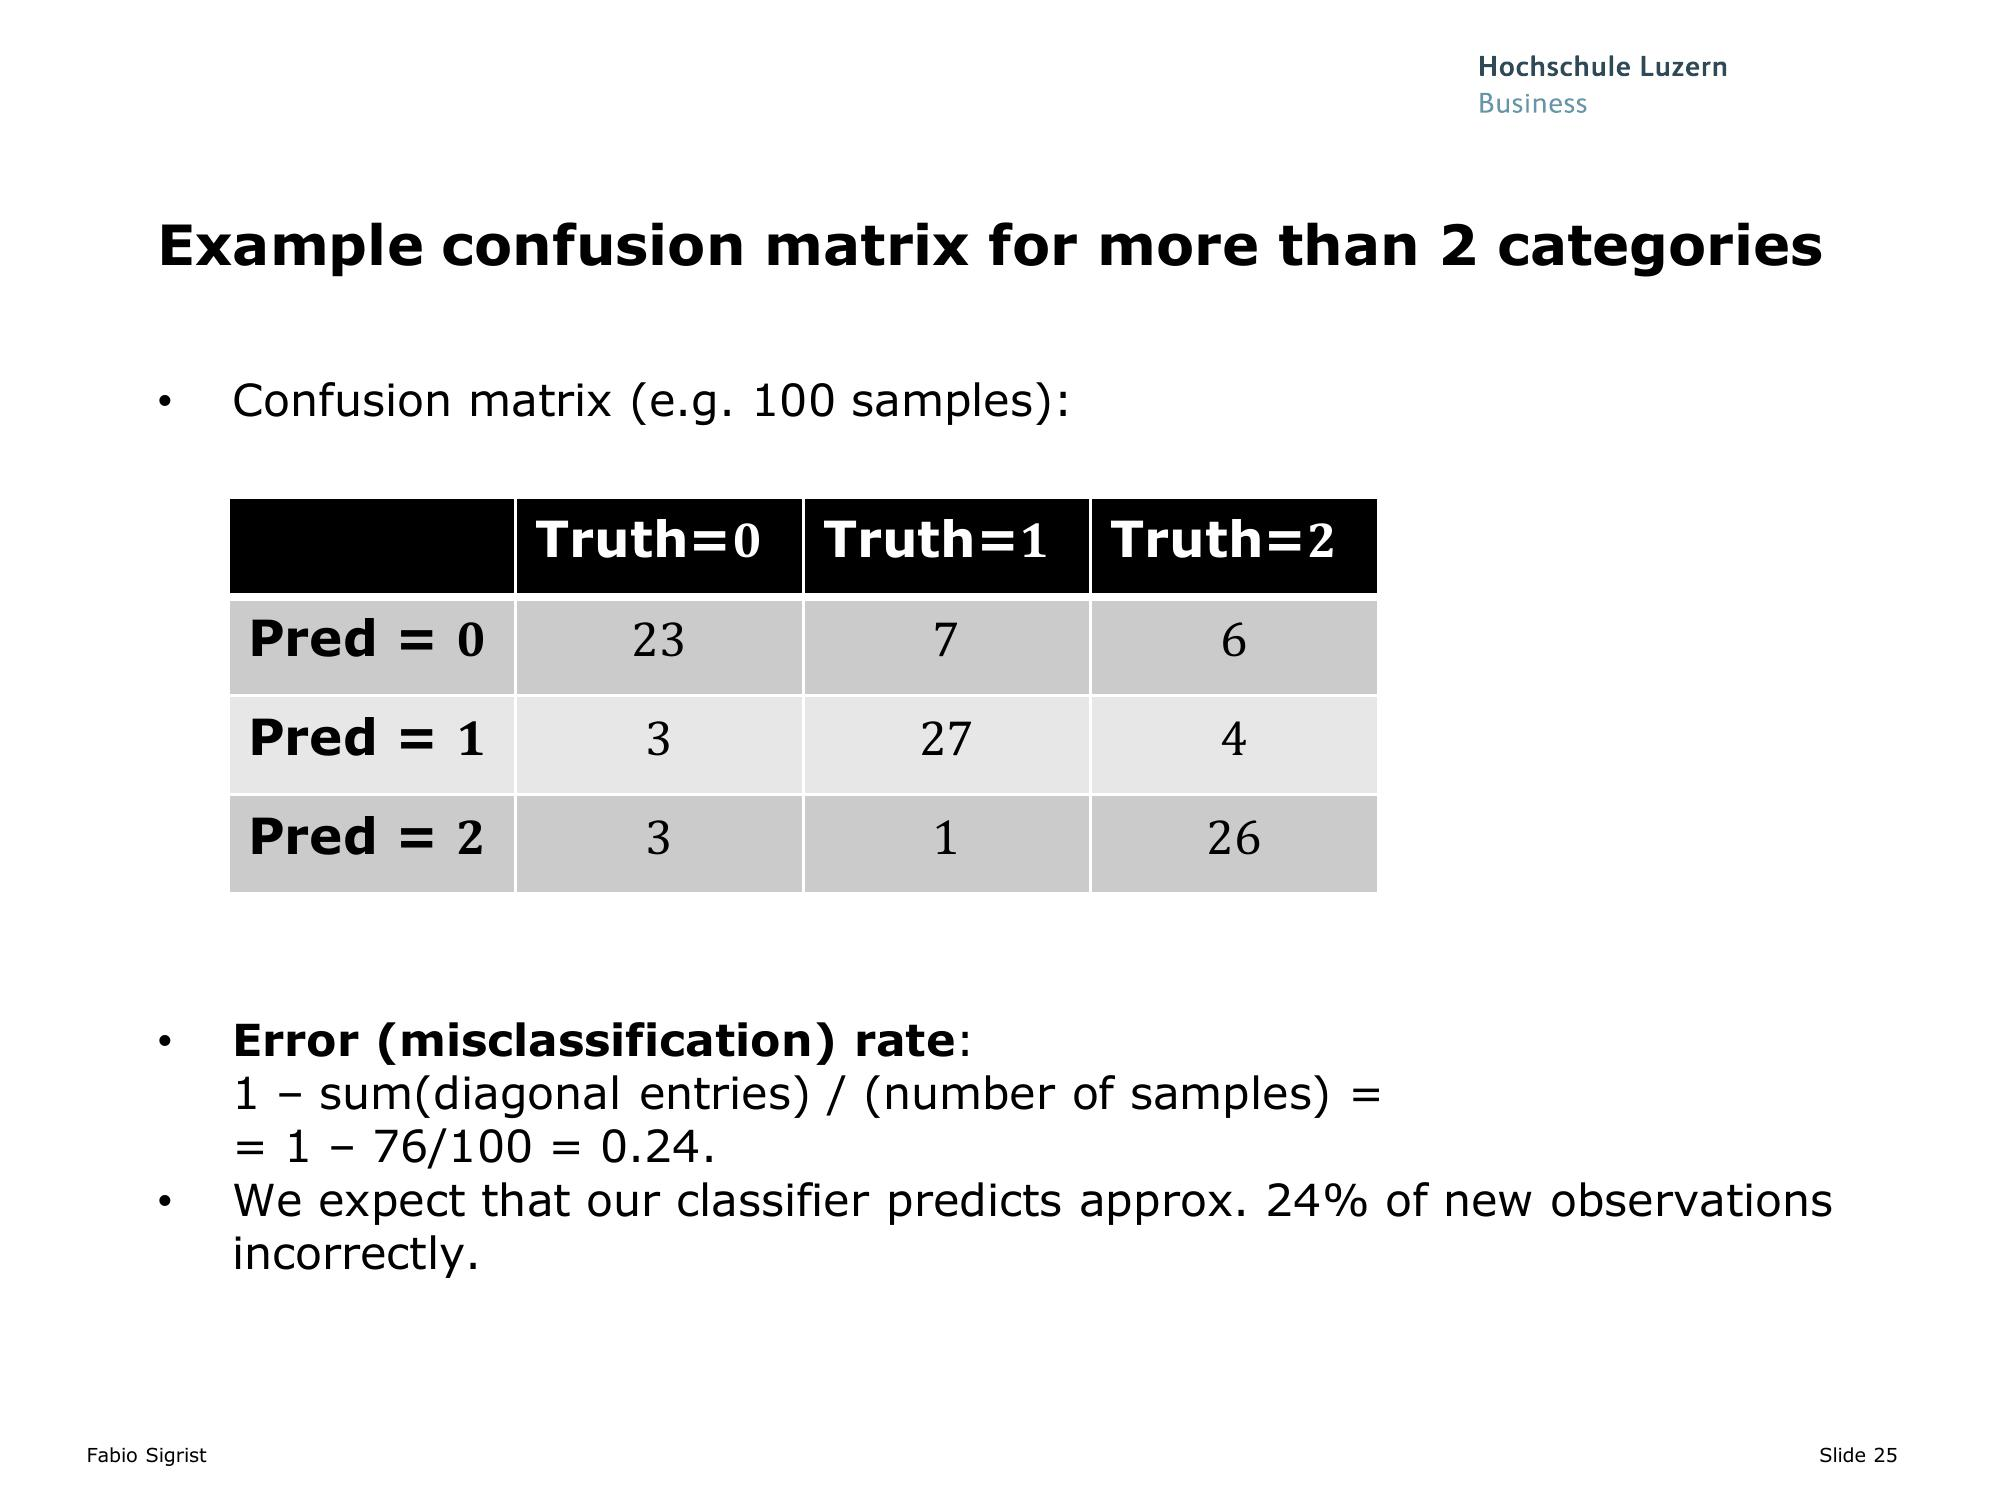Title: (143, 203, 1839, 287)
